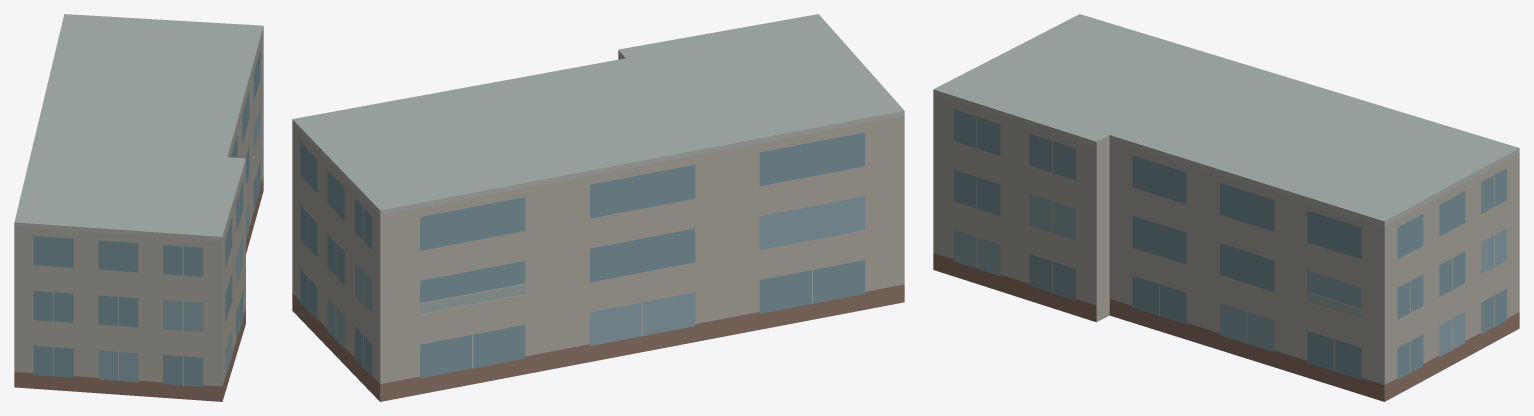
File: survey-upis-32978942.glb
3 views of the same model, side by side, from view 1: azimuth 30°, elevation 25°; view 2: azimuth 150°, elevation 25°; view 3: azimuth 270°, elevation 25° (orthographic). The views are drawn at different scales.
Visible parts, largest first — view 1: survey-upis-32978942.tmp; view 2: survey-upis-32978942.tmp; view 3: survey-upis-32978942.tmp.
Part boxes in pixels (bbox=[...]): survey-upis-32978942.tmp: bbox=[14, 14, 263, 401]; survey-upis-32978942.tmp: bbox=[292, 14, 904, 401]; survey-upis-32978942.tmp: bbox=[933, 14, 1519, 401].
Bounding box in the file's own units: 22.56 × 9.15 × 26.95.
